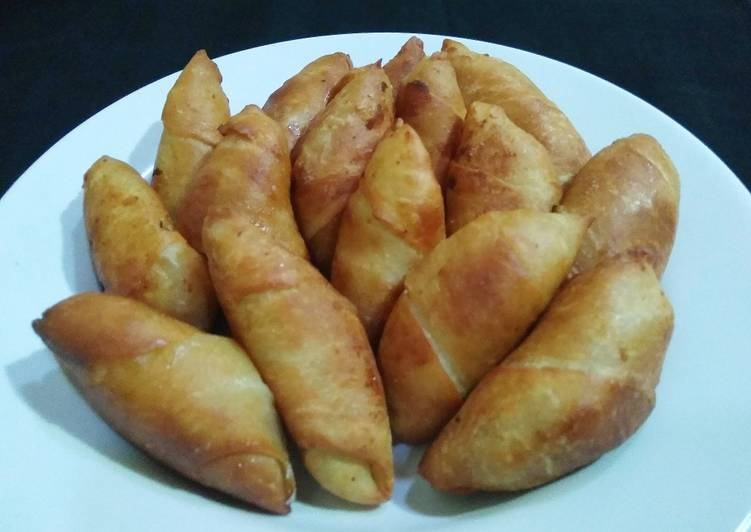pisang_molen: (183, 104, 391, 506), (418, 250, 675, 488), (30, 291, 297, 514), (385, 208, 596, 449)
